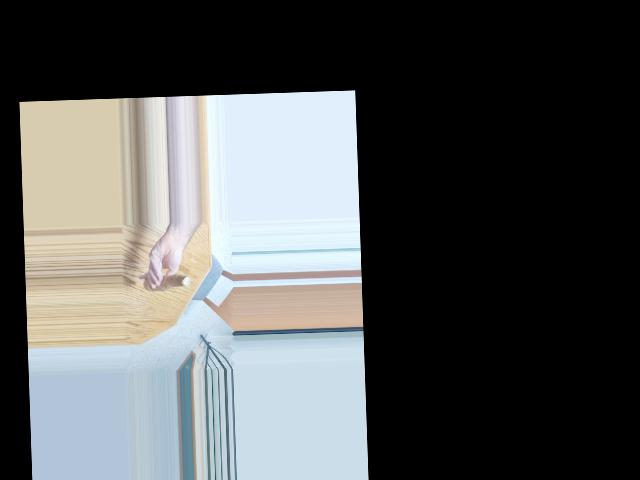sweet_potato: (147, 270, 187, 294)
